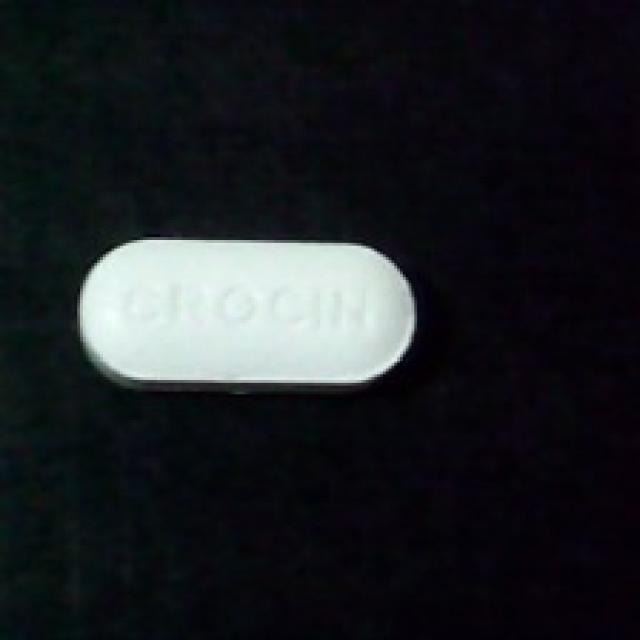no-defect: (63, 220, 426, 397)
